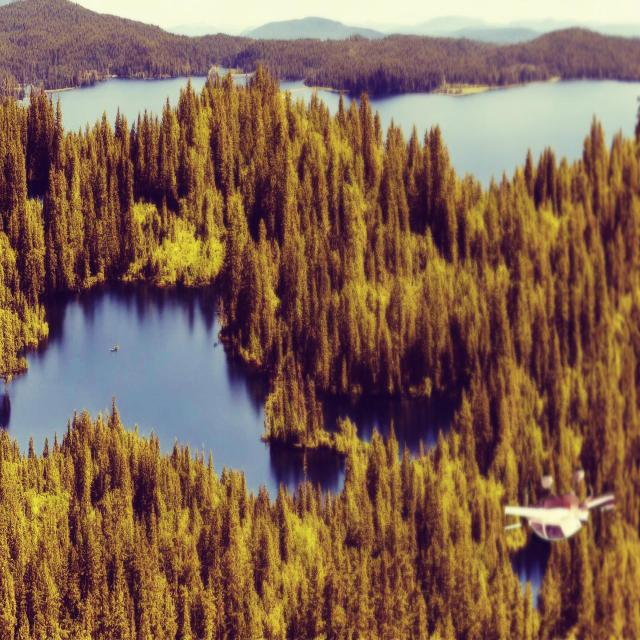airplane: (504, 468, 615, 542)
